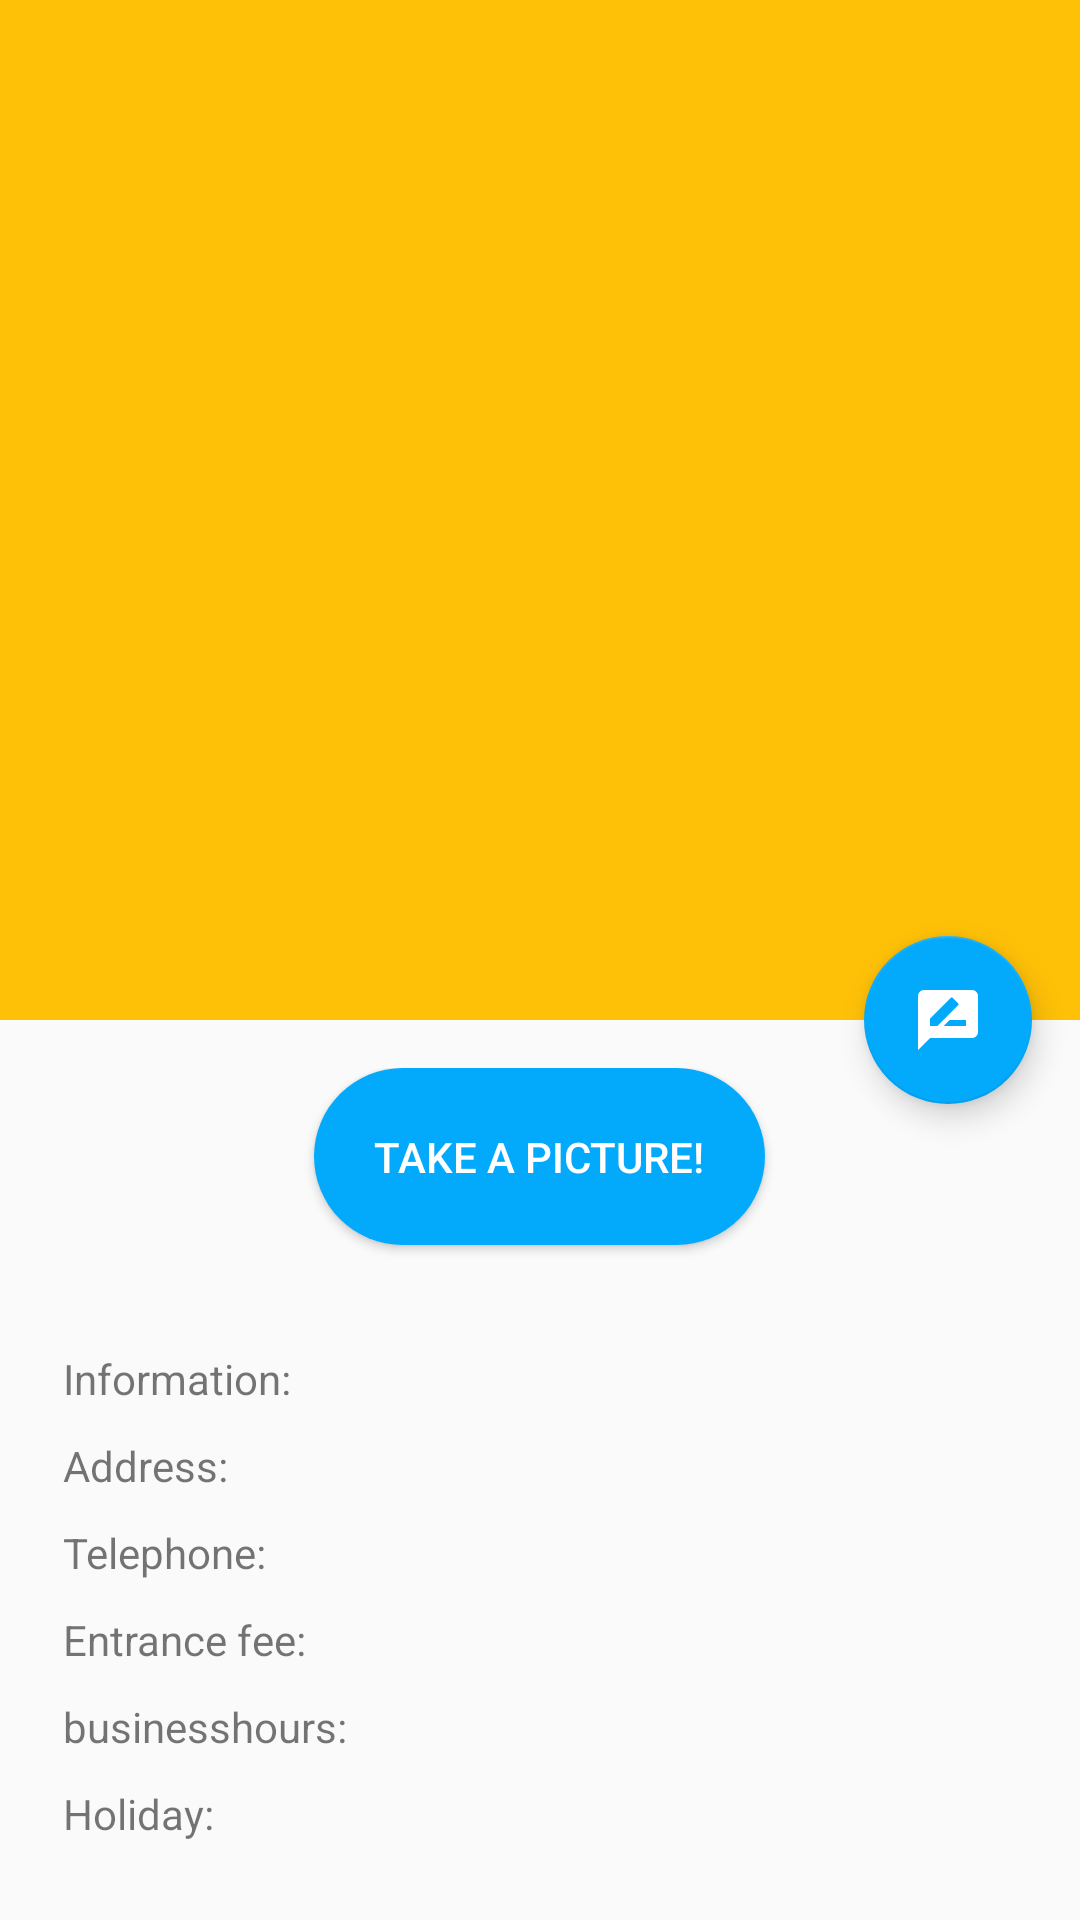

Icons on this 1080×1920 Android screen, each with the point to tap as (x,y):
rate review: (948,1020)
